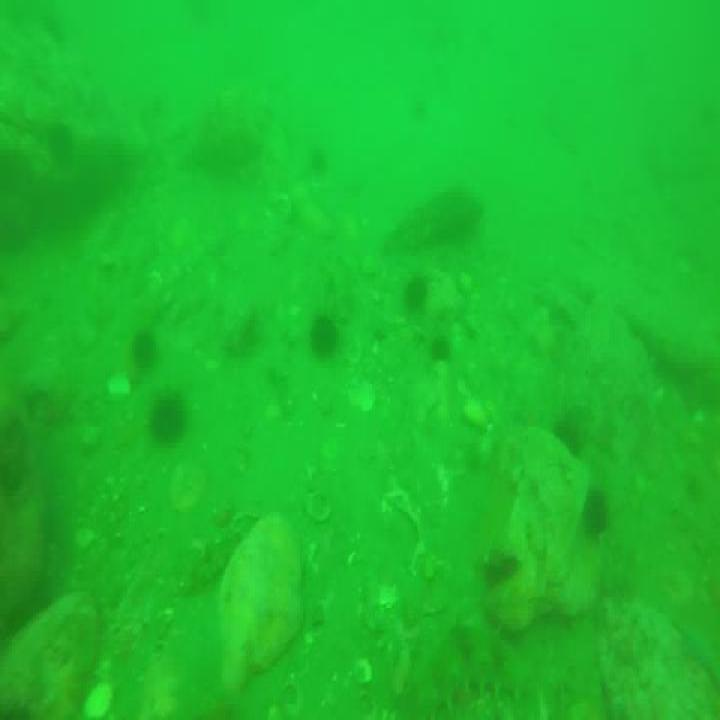echinus: (150, 391, 189, 446), (310, 311, 339, 357), (582, 489, 608, 540), (404, 276, 433, 310), (561, 416, 584, 457), (427, 334, 451, 364), (133, 332, 156, 362)
holothurian: (378, 613, 530, 720)
scallop: (465, 390, 490, 428), (308, 490, 333, 524), (346, 341, 362, 370)
